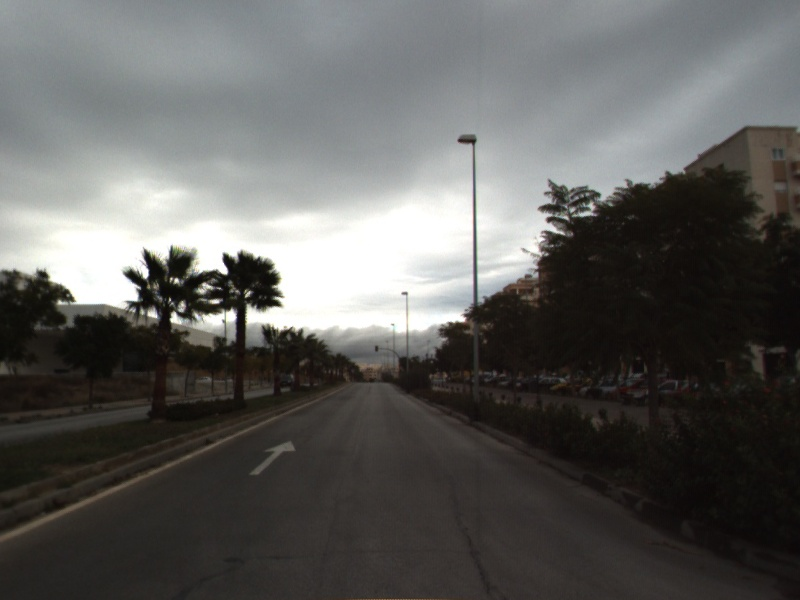STRAIGHT: (247, 439, 298, 477)
